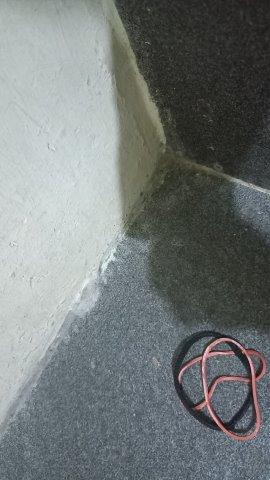karet: (173, 330, 267, 441)
